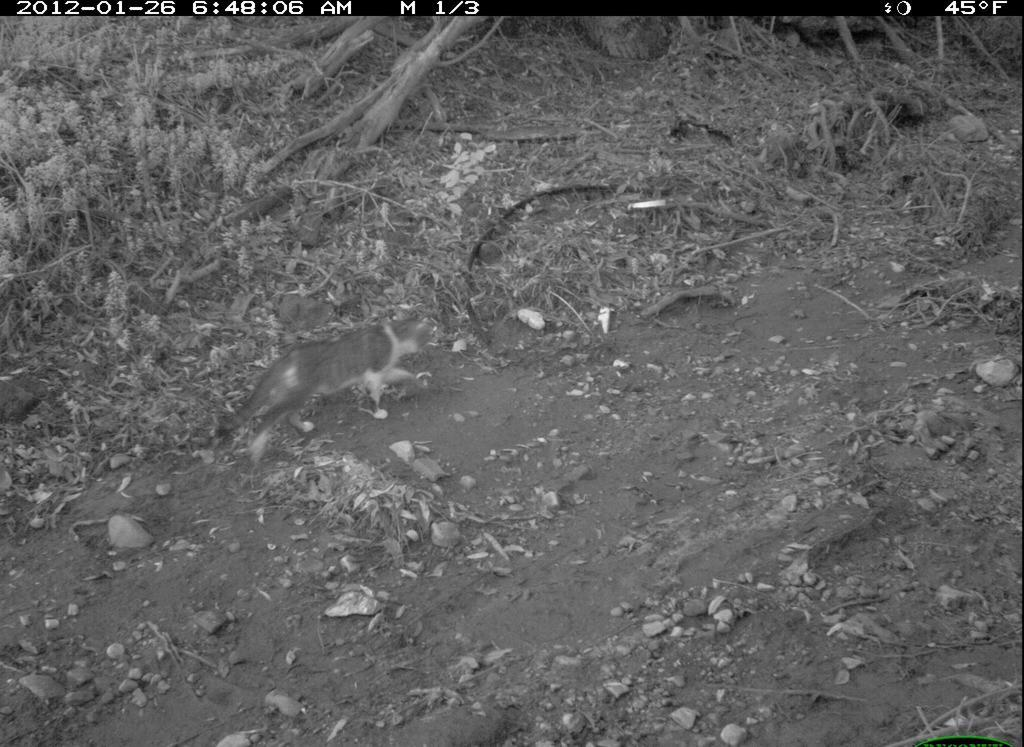cat: (217, 305, 434, 465)
